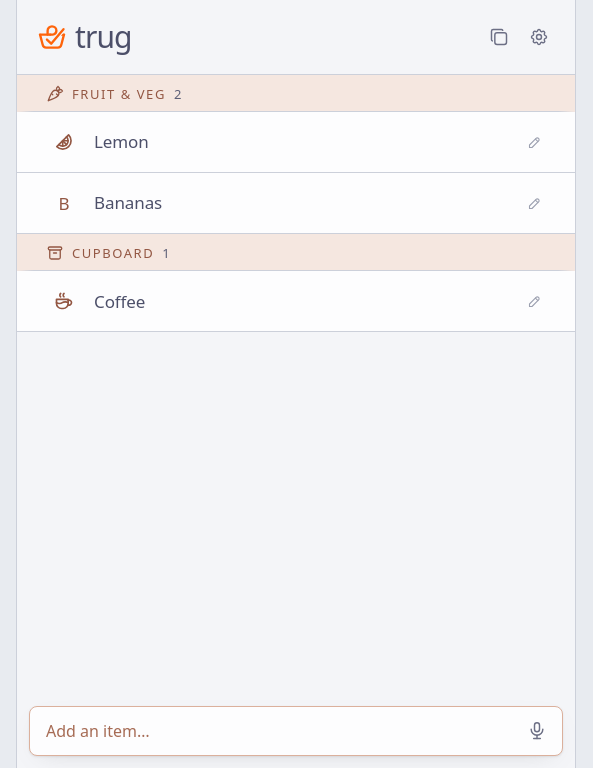
it: App copy-list button › shows a "Copied 3 items" toast on success
Click the button named "copy list".
click(499, 37)  # box [483,21,515,53]
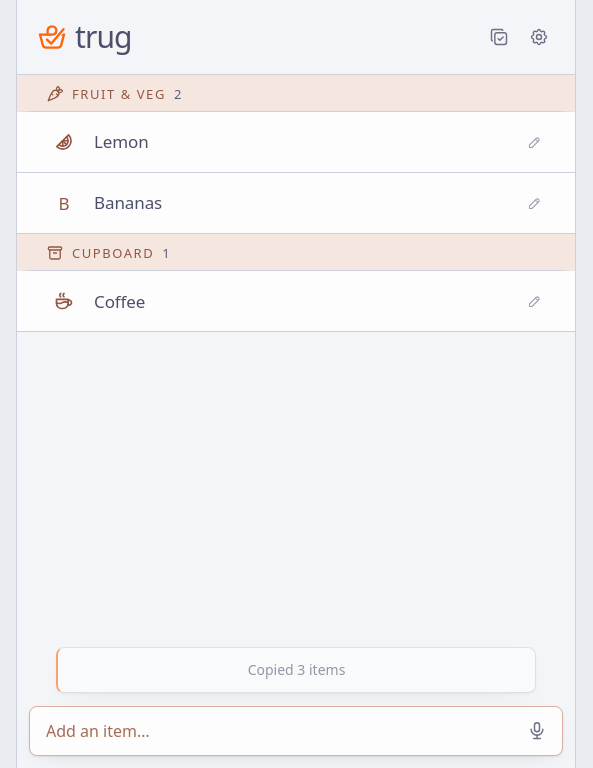
Check: the text "Copied 3 items" is shown, box [56,646,536,692]
